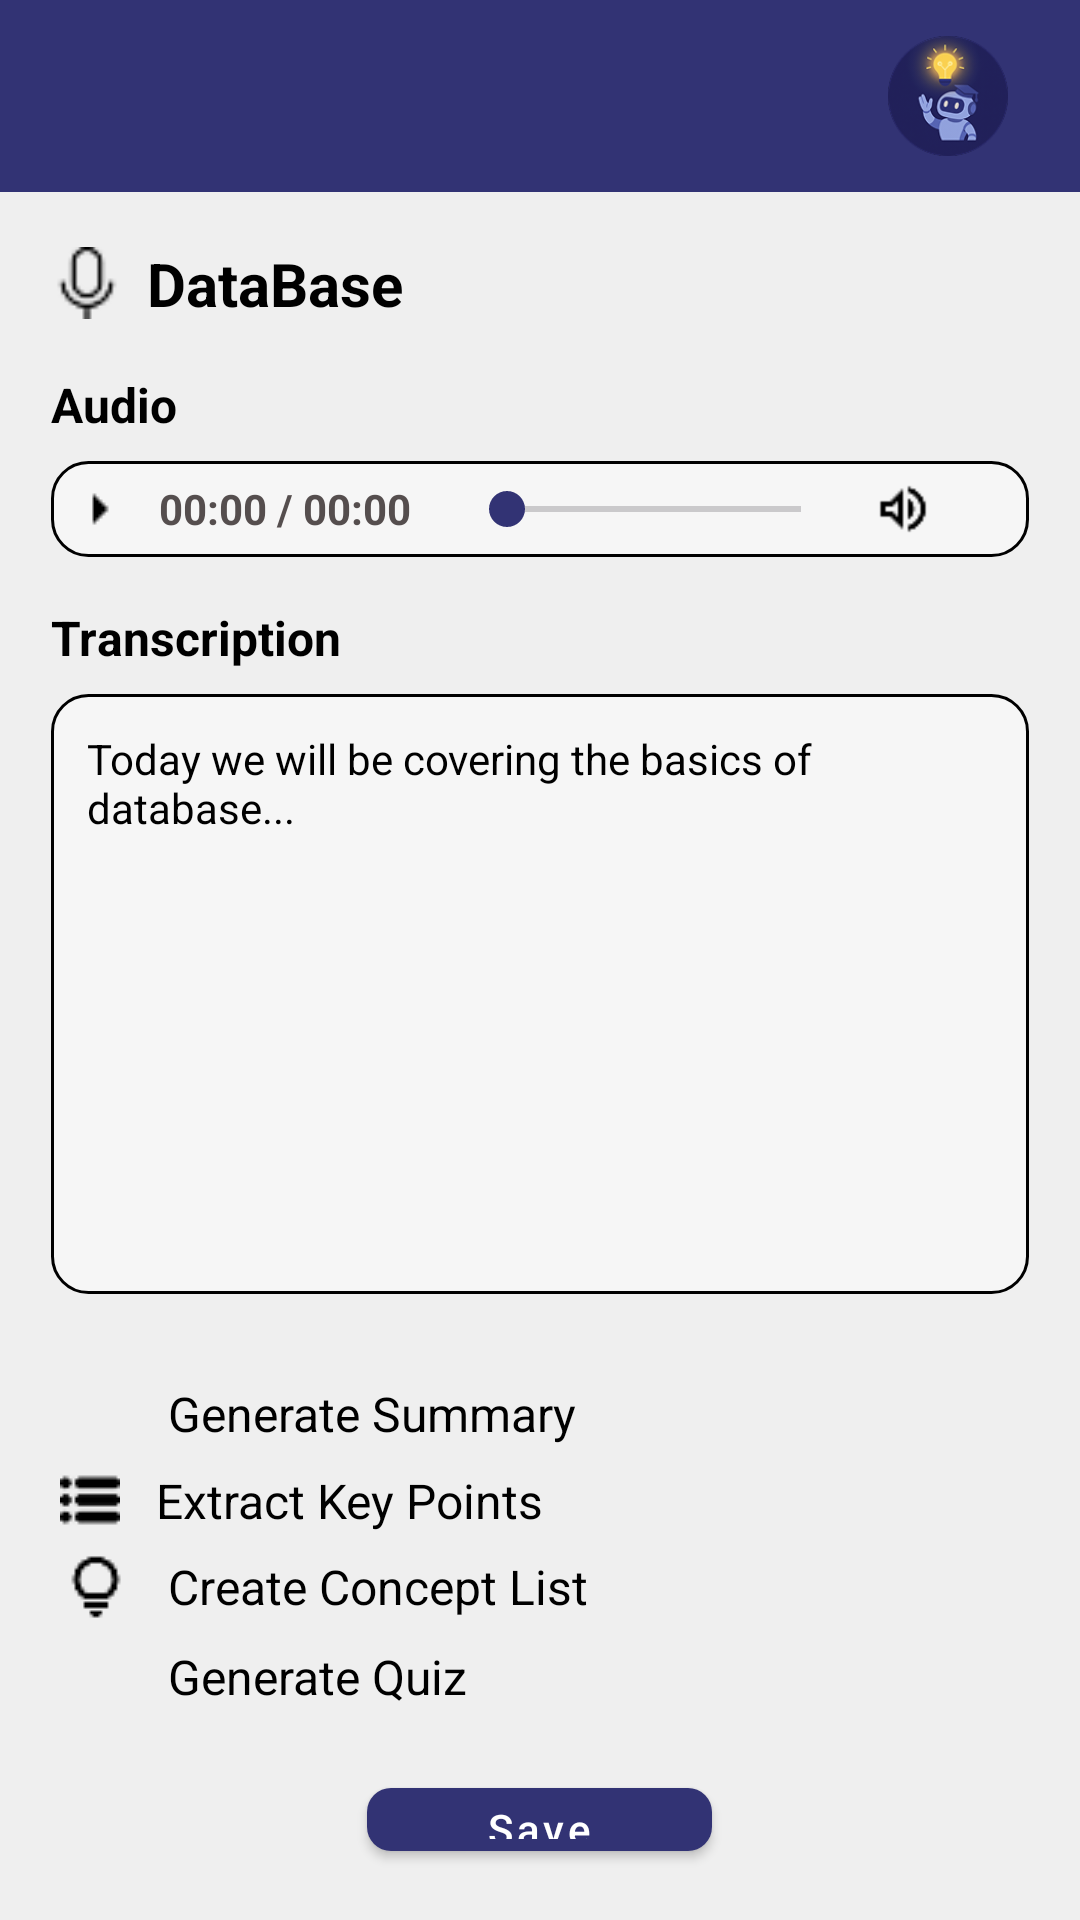

Named icons in this screenshot (1080*1920) and their bounding boxes, (x1, y1, x2, y2):
volume: (879, 486, 927, 532)
